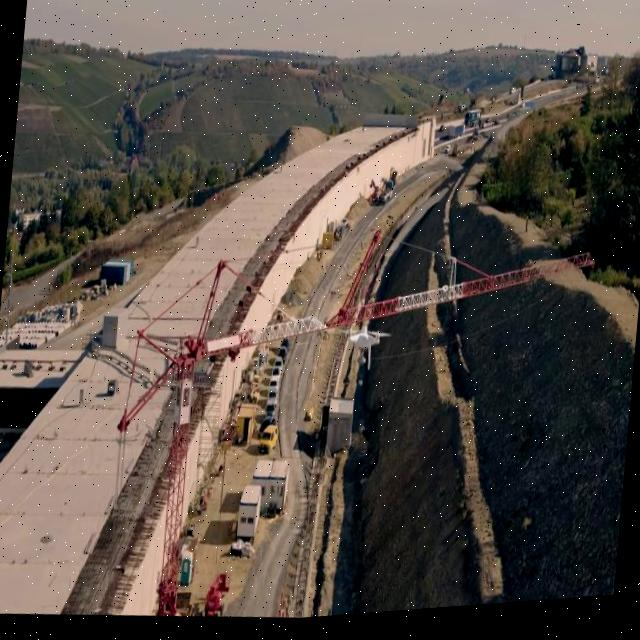drone: (339, 325, 393, 382)
